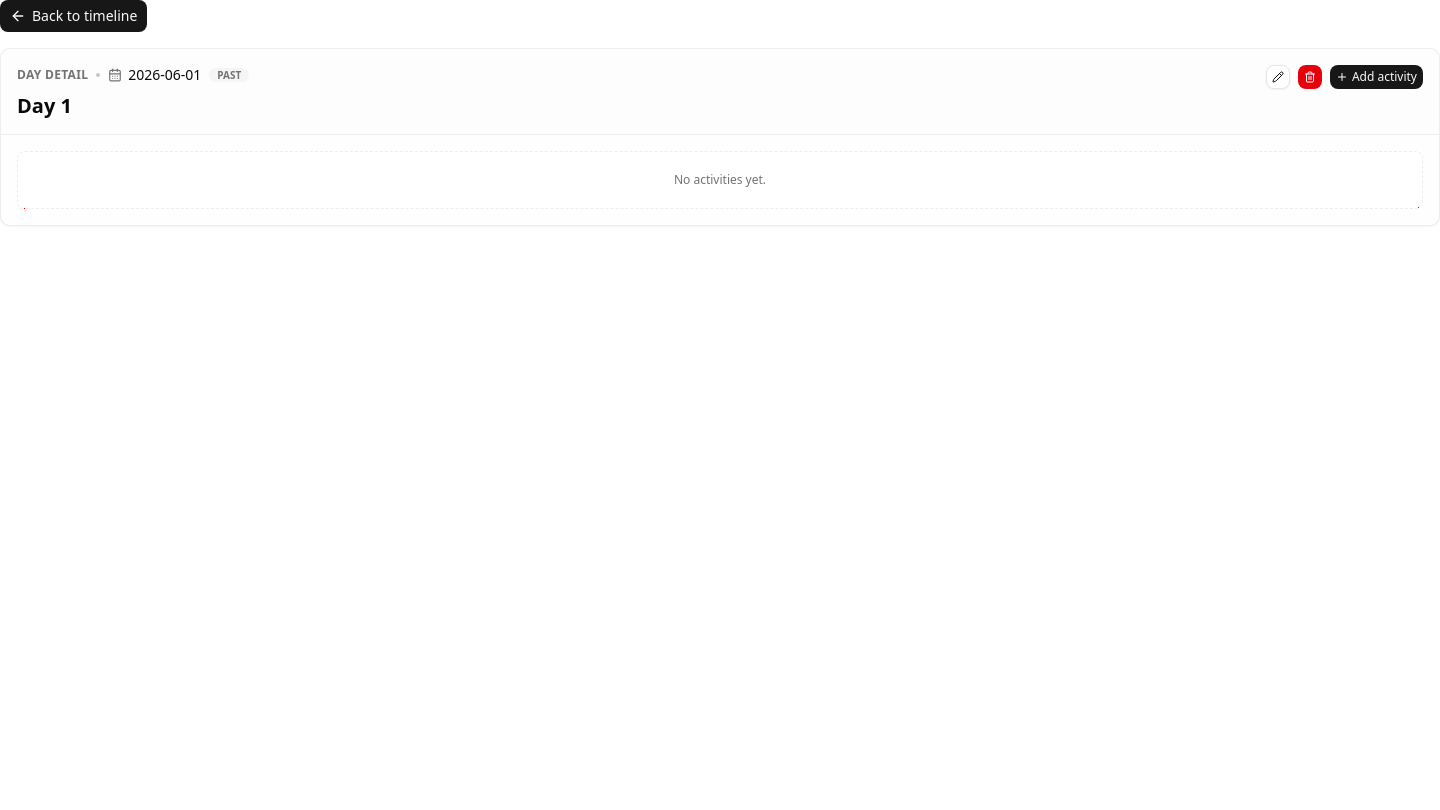
it: TimelineTab › opens the existing Add Activity modal from day detail
Click the button "Add activity": [1376, 77] box [1330, 65, 1423, 89]
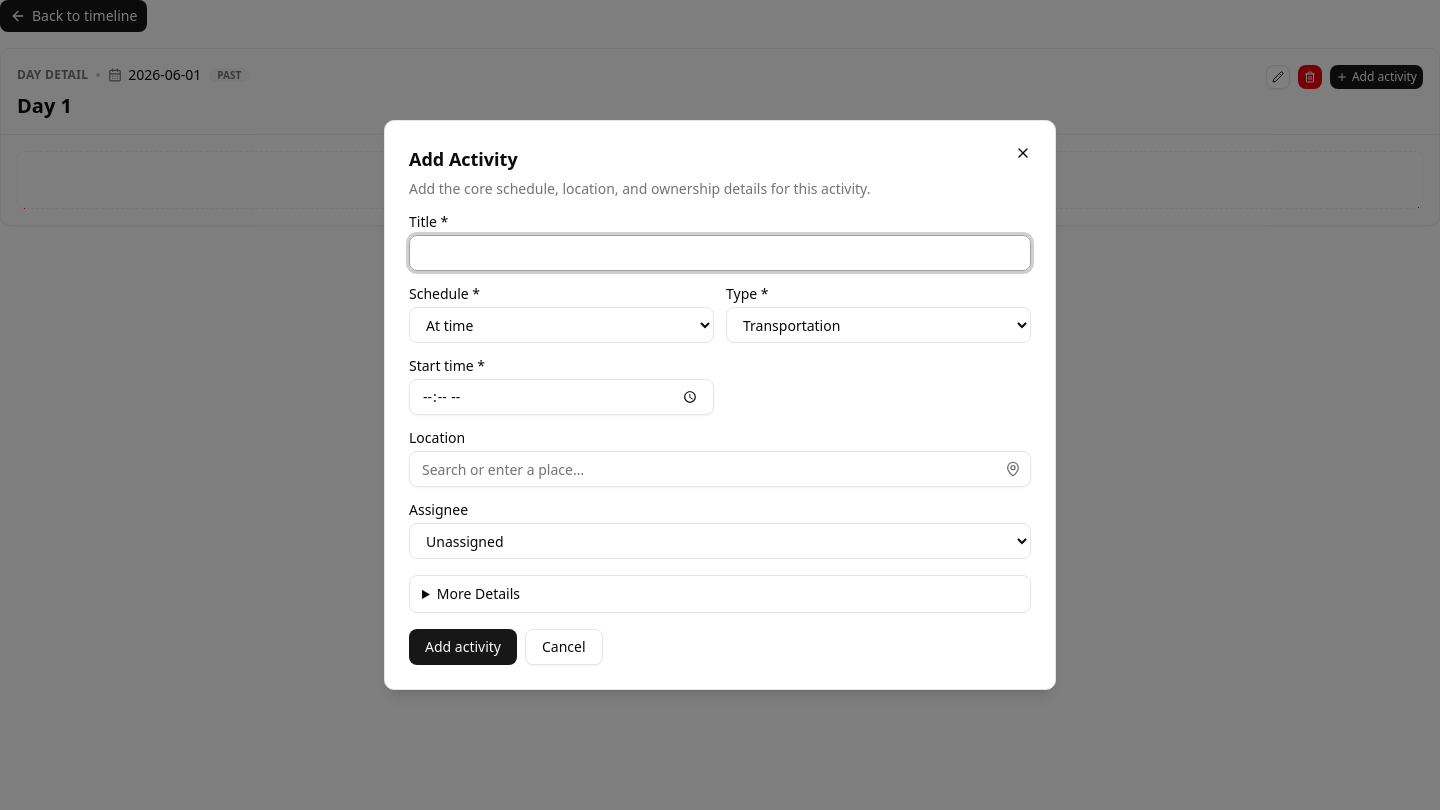
Expected: the heading "Add Activity" is shown, [409, 147, 518, 171]
